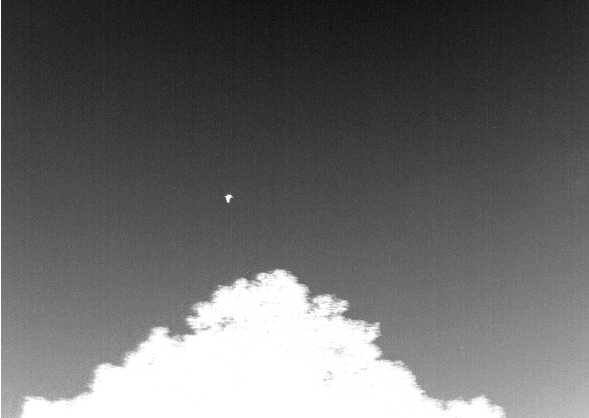dim target: (223, 193, 235, 204)
